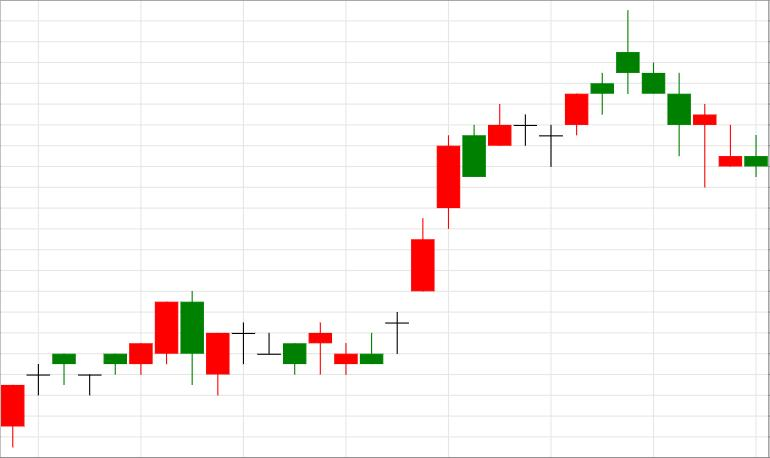bearish_engulfing_fall: (78, 291, 204, 396)
shooting_star_fall: (539, 10, 639, 168)
